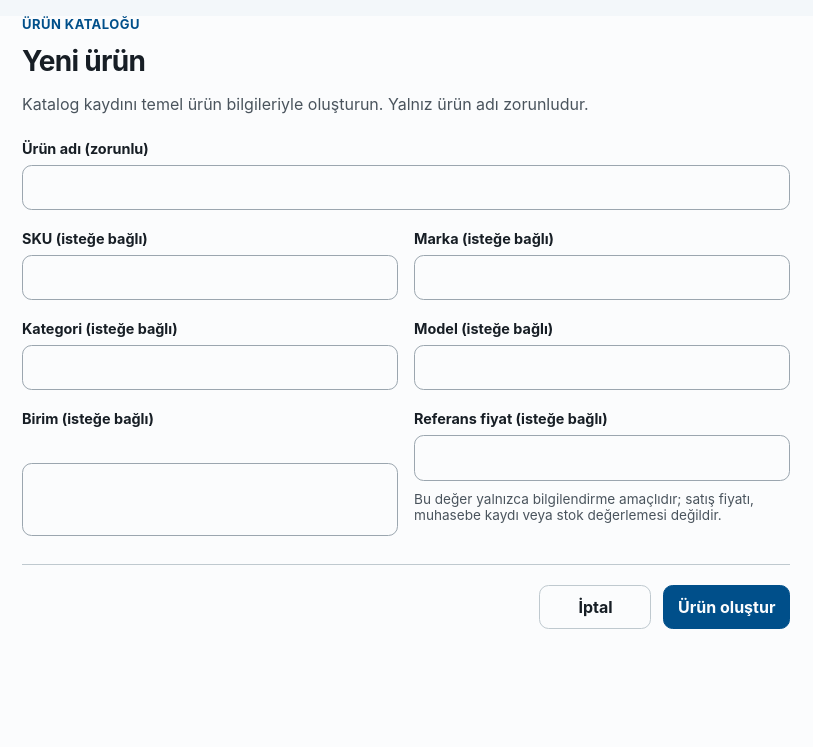
Test case: Product form › focuses the first invalid field for server validation details
This screenshot has width=813, height=747.
Type "Ürün" into the field labelled "Ürün adı (zorunlu)" at [406, 188], box [22,165,790,210]
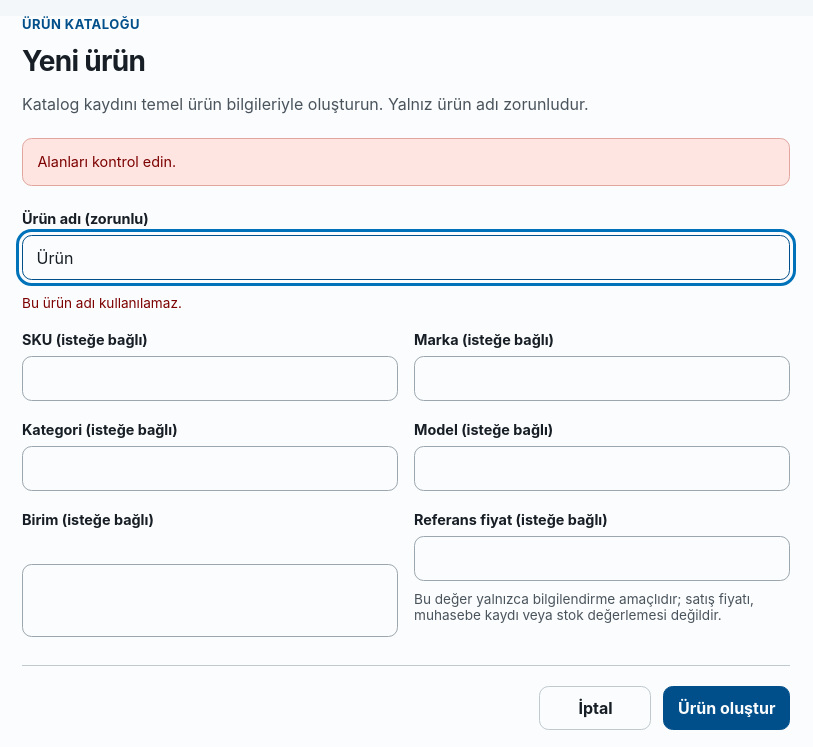
expect the text "Bu ürün adı kullanılamaz." is shown: met, box [22,295,182,311]
